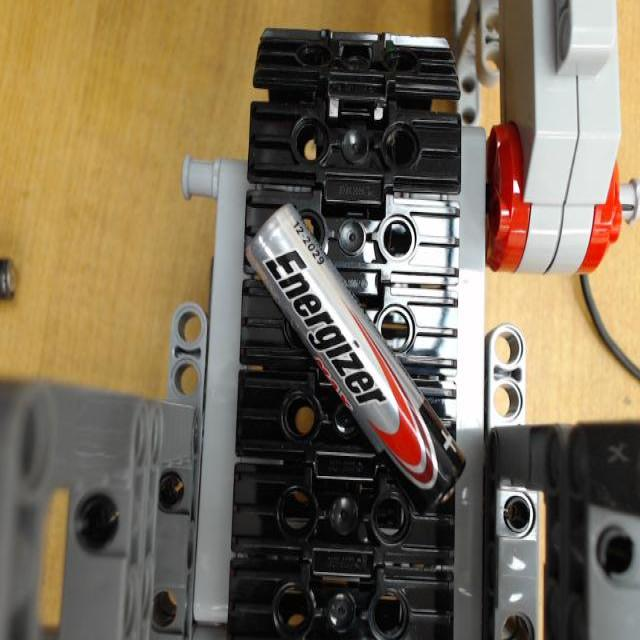AAA: (250, 206, 468, 509)
